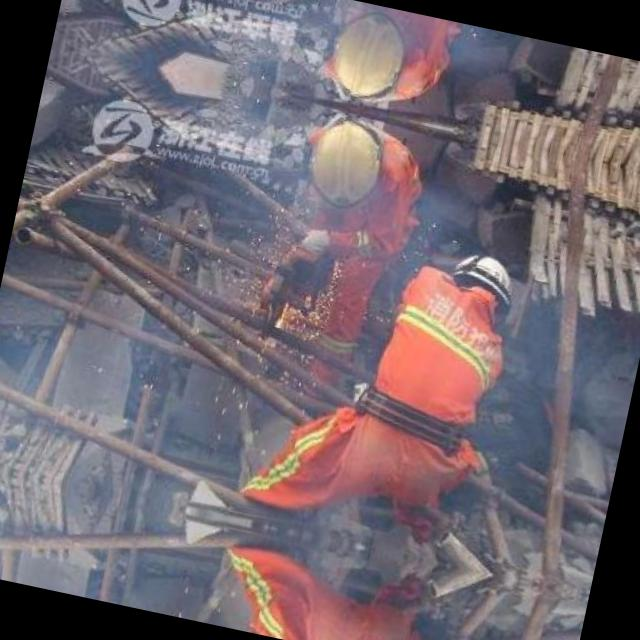helmet: (324, 2, 424, 102), (300, 119, 398, 218), (440, 245, 518, 322)
